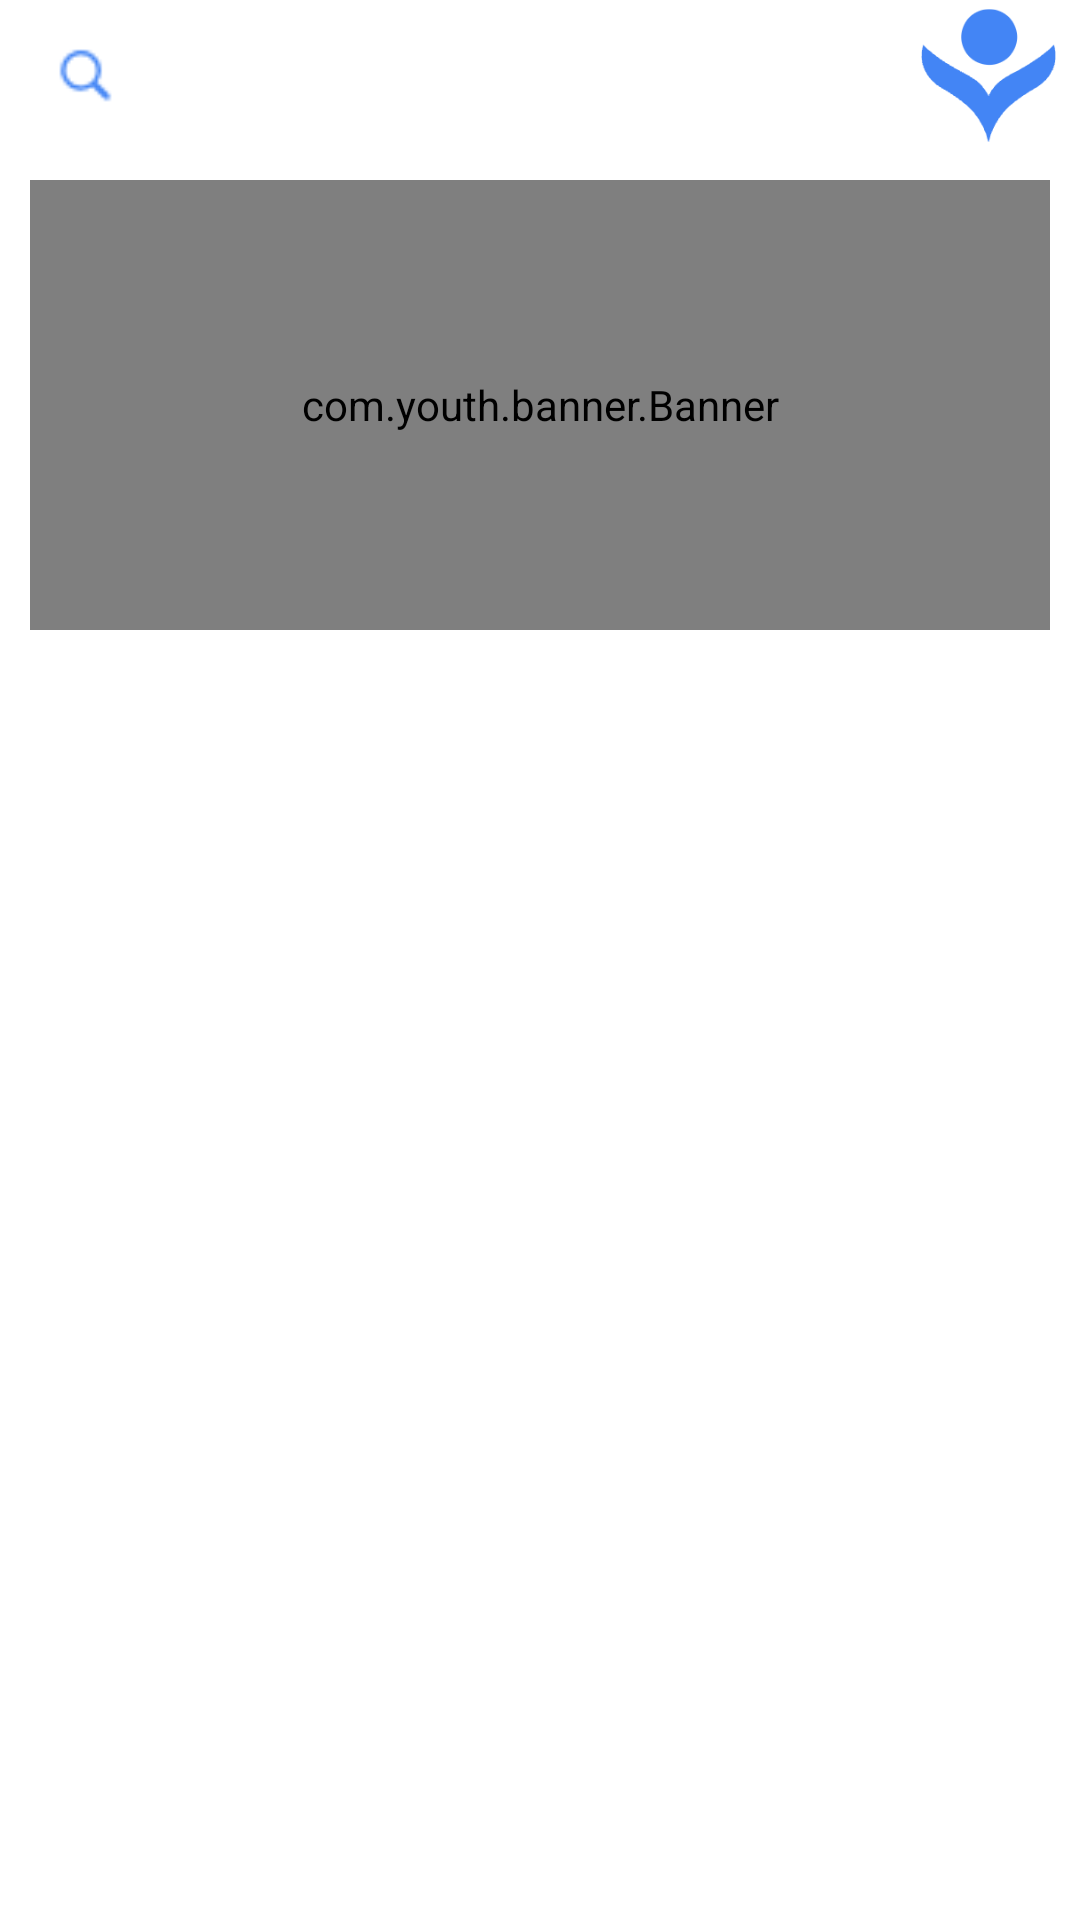

Named icons in this screenshot (1080*1920) and their bounding boxes, (x1,y1,x2,y2):
search: (59,49,111,101)
